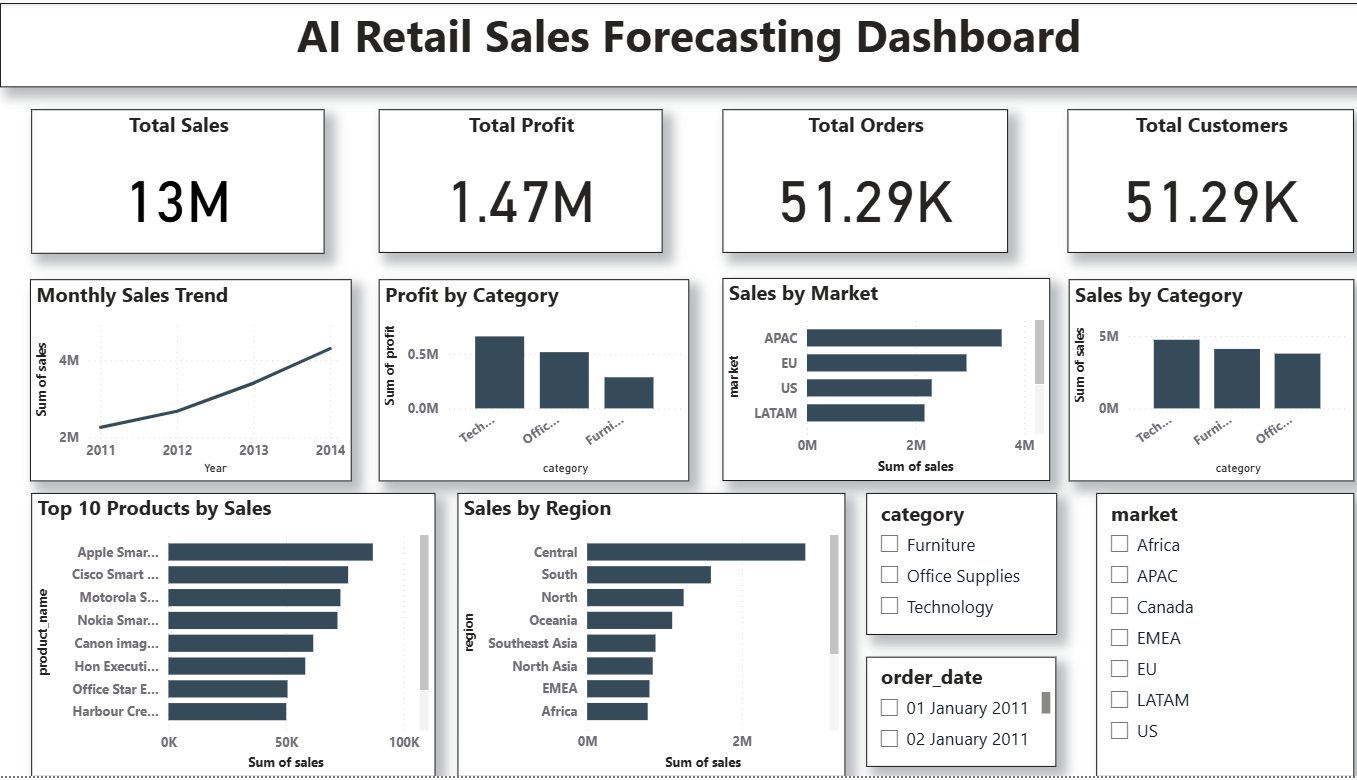

This screenshot's page, from the dashboard's own definition file:
{"tool":"powerbi","page":{"name":"Page 1","canvas":[1280,720],"ordinal":0},"visuals":[{"type":"card","title":"Total Sales","fields":{"Values":["Sum(SuperStoreOrders.sales)"]},"box":[28.6,98.6,272.9,134.3],"z":0},{"type":"card","title":"Total Profit","fields":{"Values":["Sum(SuperStoreOrders.profit)"]},"box":[352.2,99,264.1,133.3],"z":1000},{"type":"card","title":"Total Orders","fields":{"Values":["CountNonNull(SuperStoreOrders.order_id)"]},"box":[672.6,99,265.4,133.3],"z":2000},{"type":"card","title":"Total Customers","fields":{"Values":["CountNonNull(SuperStoreOrders.customer_name)"]},"box":[992.9,99,266.6,133.3],"z":3000},{"type":"lineChart","title":"Monthly Sales Trend","fields":{"Category":["SuperStoreOrders.order_date.Variation.Date Hierarchy.Year","SuperStoreOrders.order_date.Variation.Date Hierarchy.Quarter","SuperStoreOrders.order_date.Variation.Date Hierarchy.Month","SuperStoreOrders.order_date.Variation.Date Hierarchy.Day"],"Y":["Sum(SuperStoreOrders.sales)"]},"box":[28.1,256.8,299.6,188.3],"z":4000},{"type":"clusteredColumnChart","title":" Sales by Category","fields":{"Category":["SuperStoreOrders.category"],"Y":["Sum(SuperStoreOrders.sales)"]},"box":[994.2,256.8,265.4,188.3],"z":5000},{"type":"clusteredColumnChart","title":"Profit by Category","fields":{"Category":["SuperStoreOrders.category"],"Y":["Sum(SuperStoreOrders.profit)"]},"box":[352.2,256.8,288.6,188.3],"z":6000},{"type":"barChart","title":" Sales by Market","fields":{"Y":["Sum(SuperStoreOrders.sales)"],"Category":["SuperStoreOrders.market"]},"box":[672.5,256.2,305,188.8],"z":7000},{"type":"clusteredBarChart","title":"Sales by Region","fields":{"Category":["SuperStoreOrders.region"],"Y":["Sum(SuperStoreOrders.sales)"]},"box":[425.5,456.1,360.7,264.1],"z":8000},{"type":"clusteredBarChart","title":"Top 10 Products by Sales","fields":{"Category":["SuperStoreOrders.product_name"],"Y":["Sum(SuperStoreOrders.sales)"]},"box":[28.6,455.7,375.7,264.3],"z":9000},{"type":"slicer","fields":{"Values":["SuperStoreOrders.category"]},"box":[805.8,456.1,177.3,132.1],"z":10000},{"type":"slicer","fields":{"Values":["SuperStoreOrders.market"]},"box":[1019.8,456.1,239.7,264.1],"z":11000},{"type":"slicer","fields":{"Values":["SuperStoreOrders.order_date"]},"box":[805.7,608.6,177.1,101.4],"z":12000},{"type":"textbox","title":"AI Retail Sales Forecasting Dashboard","box":[0,0,1280.3,78.3],"z":13000}]}

Visuals, with their boxes in screenshot pixels (x1, y1, x2, y2), scaled from the page's 1280x720 canvas onto the 1357x780 screenshot:
"Total Sales" card: 30, 107, 320, 252
"Total Profit" card: 373, 107, 653, 252
"Total Orders" card: 713, 107, 994, 252
"Total Customers" card: 1053, 107, 1335, 252
"Monthly Sales Trend" lineChart: 30, 278, 347, 482
" Sales by Category" clusteredColumnChart: 1054, 278, 1335, 482
"Profit by Category" clusteredColumnChart: 373, 278, 679, 482
" Sales by Market" barChart: 713, 278, 1036, 482
"Sales by Region" clusteredBarChart: 451, 494, 833, 779
"Top 10 Products by Sales" clusteredBarChart: 30, 494, 429, 779
slicer - SuperStoreOrders.category: 854, 494, 1042, 637
slicer - SuperStoreOrders.market: 1081, 494, 1335, 779
slicer - SuperStoreOrders.order_date: 854, 659, 1042, 769
"AI Retail Sales Forecasting Dashboard" textbox: 0, 0, 1356, 85
